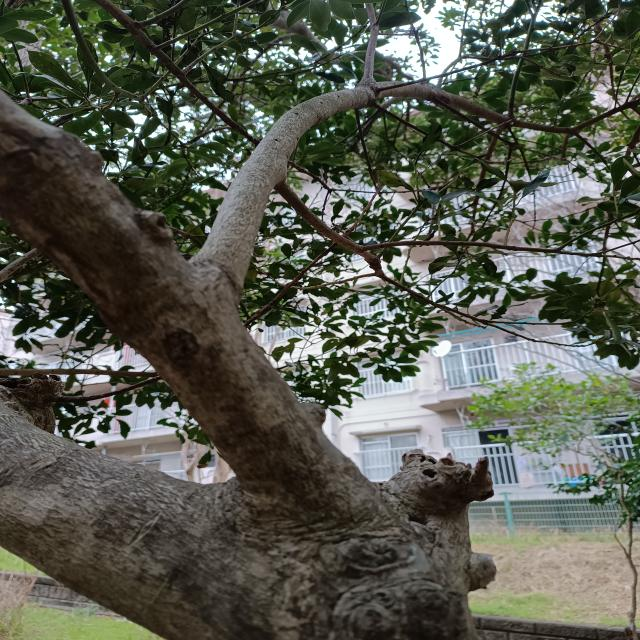Branch: (2, 91, 376, 482), (0, 403, 324, 640)
Twig: (195, 81, 625, 307), (275, 182, 476, 319), (98, 1, 257, 145), (369, 212, 634, 251), (361, 1, 378, 79)
